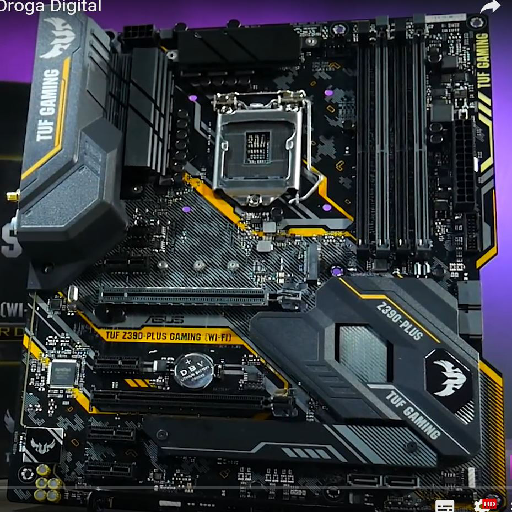CPU: (212, 107, 301, 206)
GPU: (87, 387, 299, 420), (97, 284, 303, 313)
MOTHERBOARD: (16, 12, 501, 506)
RAM: (349, 13, 435, 258)
SSD: (299, 243, 321, 284)
